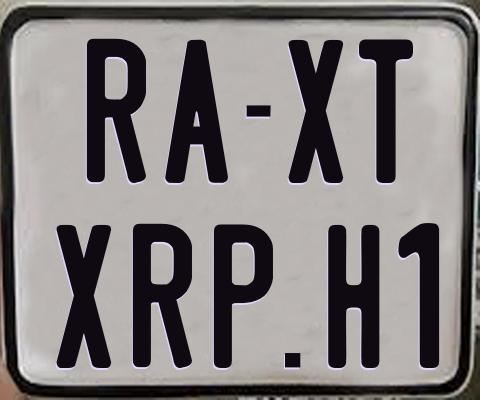1: (397, 220, 439, 368)
A: (165, 40, 232, 189)
H: (327, 225, 379, 369)
P: (212, 223, 276, 373)
R: (133, 222, 193, 370), (84, 39, 145, 183)
T: (358, 37, 413, 181)
X: (56, 222, 111, 368), (288, 39, 344, 182)
